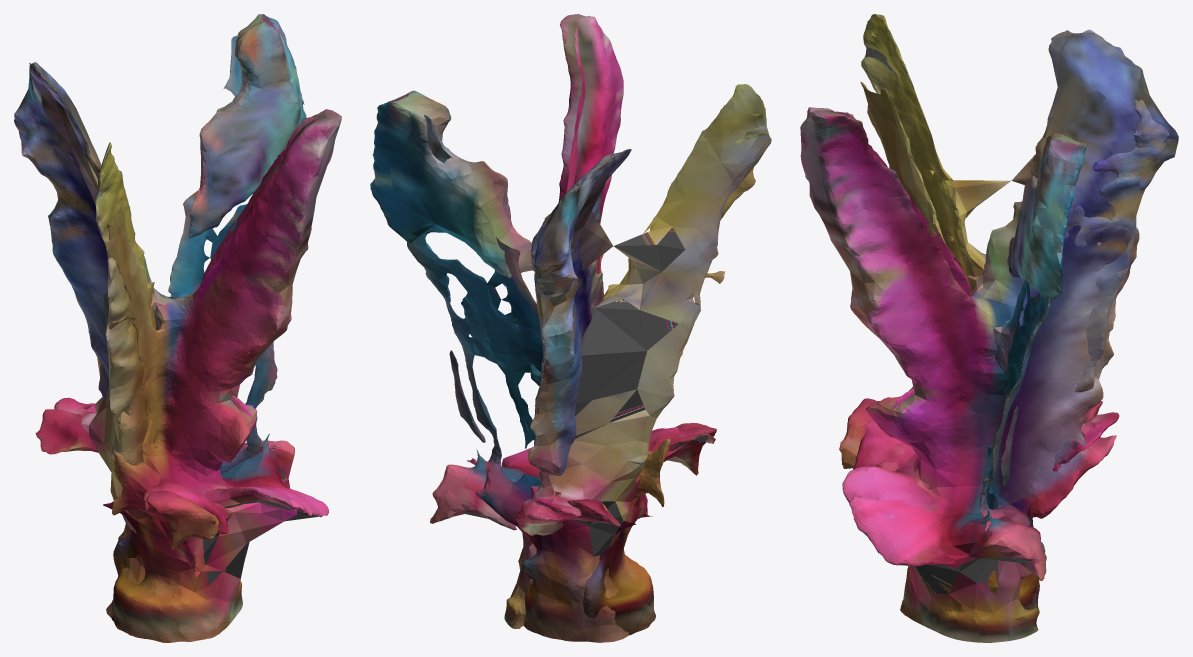
File: Chapteh 15 Feb.glb
3 views of the same model, side by side, from view 1: azimuth 30°, elevation 25°; view 2: azimuth 150°, elevation 25°; view 3: azimuth 270°, elevation 25° (orthographic). The views are drawn at different scales.
Bounding box in the file's own units: 0.119 × 0.1959 × 0.1244.
Materials: 2 (2 with a texture image).
